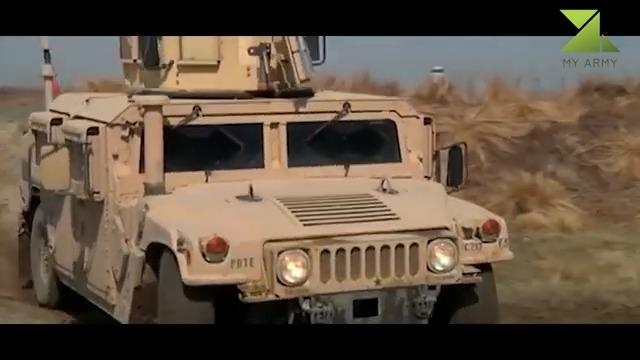MIL_HMMWV: (16, 90, 515, 325)
